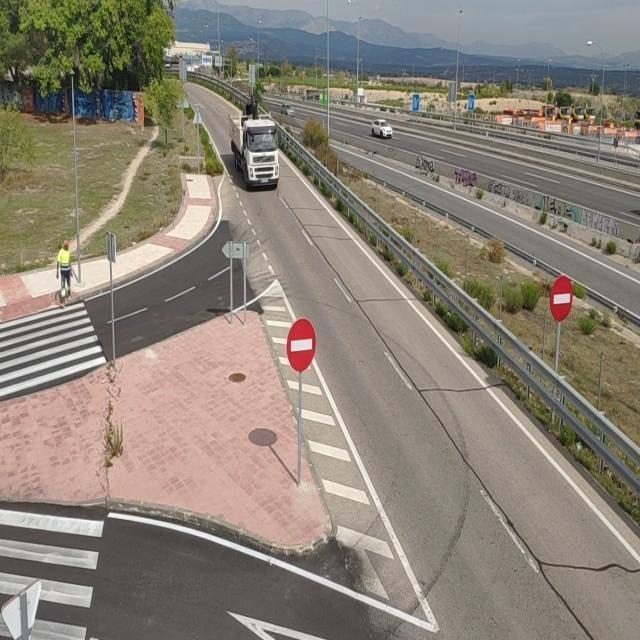Car: (369, 117, 397, 141), (278, 103, 298, 115)
Truck: (226, 110, 281, 190)
